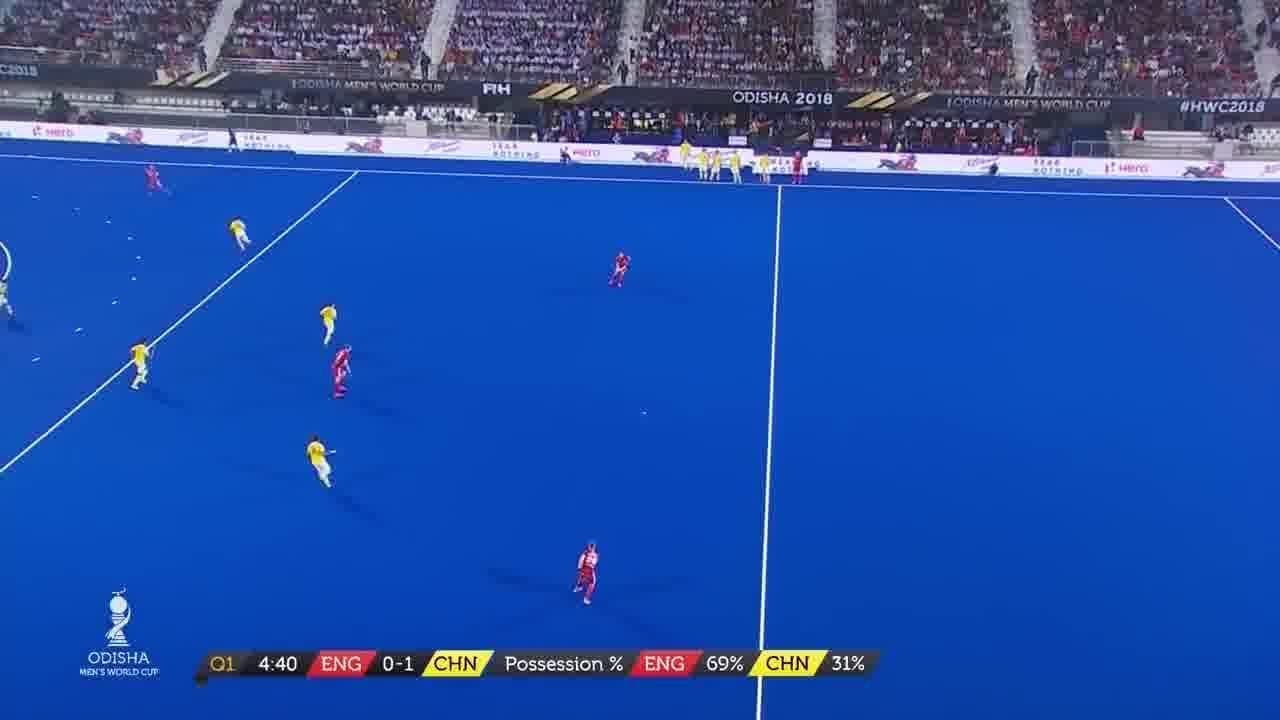ball: (634, 406, 654, 424)
